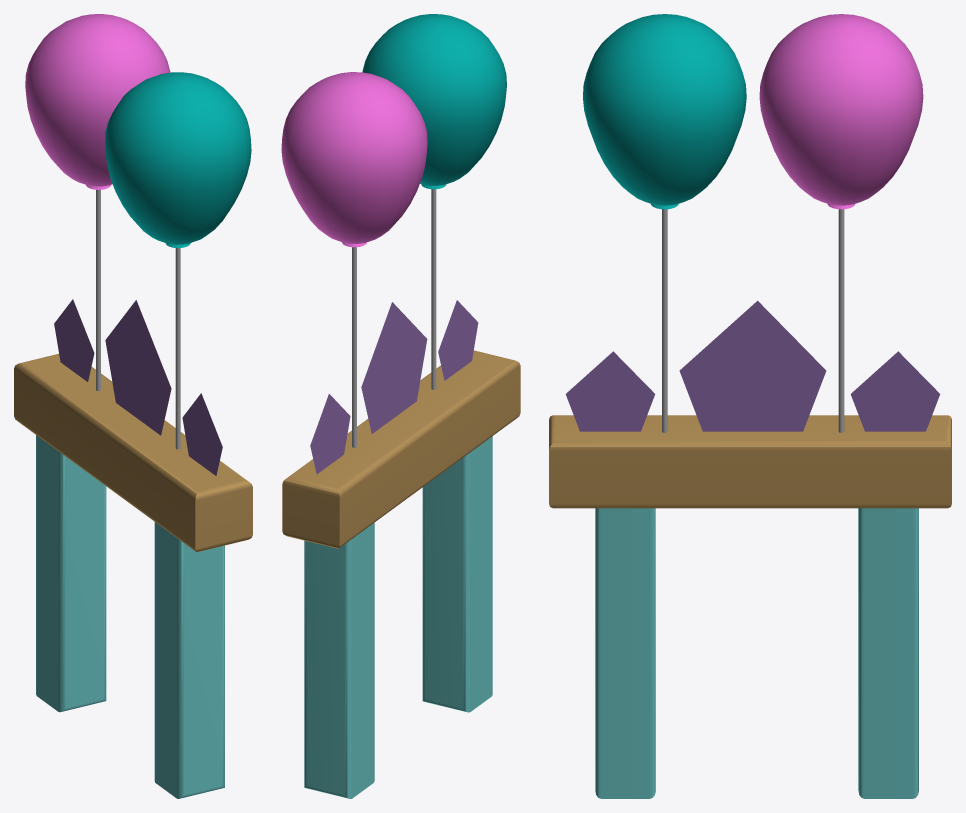
Rendered from Balloon.fbx.
3 views of the same model, side by side, from view 1: azimuth 30°, elevation 25°; view 2: azimuth 150°, elevation 25°; view 3: azimuth 270°, elevation 25° (orthographic). The views are drawn at different scales.
Parts seen in each view (by area): view 1: Deco_Post01_msh, Balloon01_msh, Deco_Post02_msh, Deco_Post03_msh, Balloon02_msh, Deco01_msh, Deco02_msh, Deco03_msh, String01_msh, String02_msh; view 2: Deco_Post01_msh, Balloon02_msh, Deco_Post03_msh, Deco_Post02_msh, Balloon01_msh, Deco01_msh, Deco02_msh, Deco03_msh, String01_msh, String02_msh; view 3: Deco_Post01_msh, Balloon02_msh, Balloon01_msh, Deco_Post03_msh, Deco_Post02_msh, Deco01_msh, Deco02_msh, Deco03_msh, String02_msh, String01_msh.
Boxes of the visible parts, left/top/right/bottom form: Deco_Post01_msh: left=14, top=353, right=252, bottom=552; Balloon01_msh: left=104, top=72, right=251, bottom=247; Deco_Post02_msh: left=154, top=522, right=224, bottom=798; Deco_Post03_msh: left=36, top=435, right=106, bottom=712; Balloon02_msh: left=25, top=14, right=170, bottom=189; Deco01_msh: left=105, top=300, right=171, bottom=435; Deco02_msh: left=182, top=393, right=222, bottom=475; Deco03_msh: left=54, top=299, right=94, bottom=381; String01_msh: left=175, top=248, right=180, bottom=449; String02_msh: left=96, top=190, right=100, bottom=391; Deco_Post01_msh: left=282, top=350, right=520, bottom=548; Balloon02_msh: left=281, top=72, right=427, bottom=247; Deco_Post03_msh: left=304, top=522, right=374, bottom=798; Deco_Post02_msh: left=422, top=436, right=492, bottom=712; Balloon01_msh: left=362, top=14, right=506, bottom=189; Deco01_msh: left=361, top=302, right=427, bottom=433; Deco02_msh: left=438, top=300, right=478, bottom=380; Deco03_msh: left=310, top=394, right=350, bottom=474; String01_msh: left=431, top=189, right=436, bottom=389; String02_msh: left=352, top=247, right=356, bottom=447; Deco_Post01_msh: left=549, top=415, right=951, bottom=508; Balloon02_msh: left=759, top=14, right=923, bottom=209; Balloon01_msh: left=583, top=14, right=746, bottom=209; Deco_Post03_msh: left=858, top=508, right=918, bottom=798; Deco_Post02_msh: left=595, top=508, right=655, bottom=798; Deco01_msh: left=679, top=300, right=826, bottom=431; Deco02_msh: left=565, top=351, right=655, bottom=431; Deco03_msh: left=850, top=351, right=940, bottom=431; String02_msh: left=838, top=209, right=844, bottom=432; String01_msh: left=662, top=209, right=667, bottom=432.
Size of the model in its own units: 2.22 by 11.5 by 5.47.
